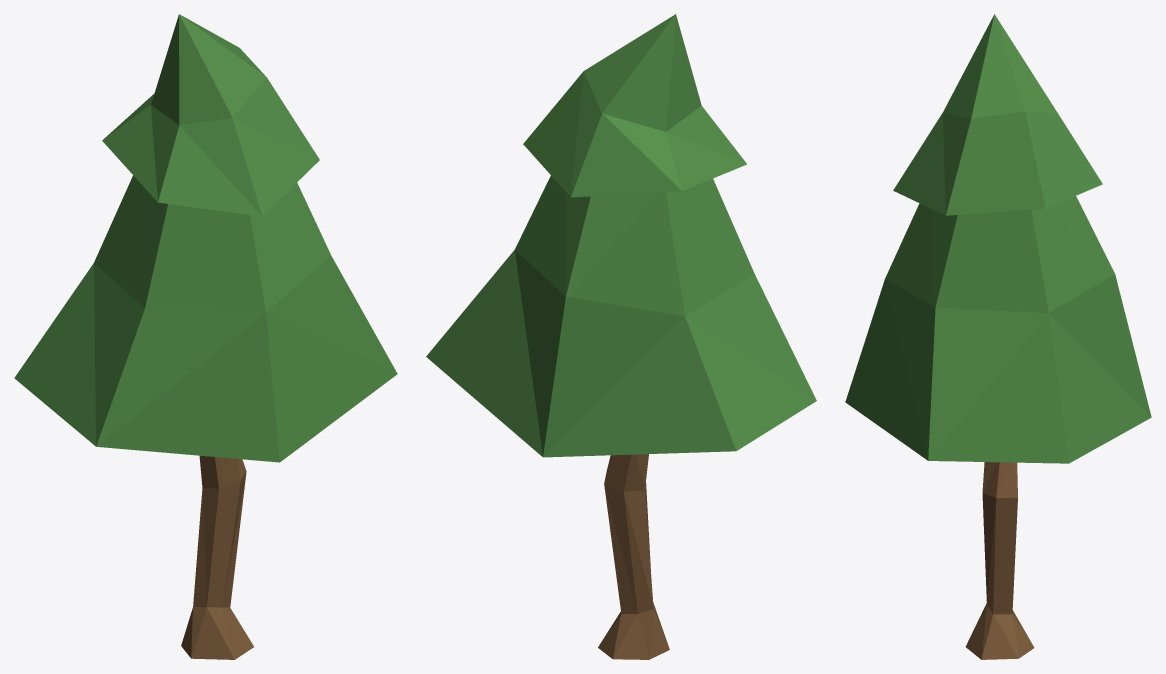
File: tree3d-030.glb
The picture shows the model from 3 angles, left to right: view 1: azimuth 30°, elevation 25°; view 2: azimuth 150°, elevation 25°; view 3: azimuth 270°, elevation 25°; orthographic projection. The views are drawn at different scales.
Visible parts, largest first — view 1: tree3d-030; view 2: tree3d-030; view 3: tree3d-030.
Boxes of the visible parts, bbox=[...] form: tree3d-030: bbox=[14, 14, 397, 659]; tree3d-030: bbox=[426, 14, 816, 659]; tree3d-030: bbox=[845, 14, 1151, 659].
Size of the model in its own units: 0.5282 by 1 by 0.4522.
